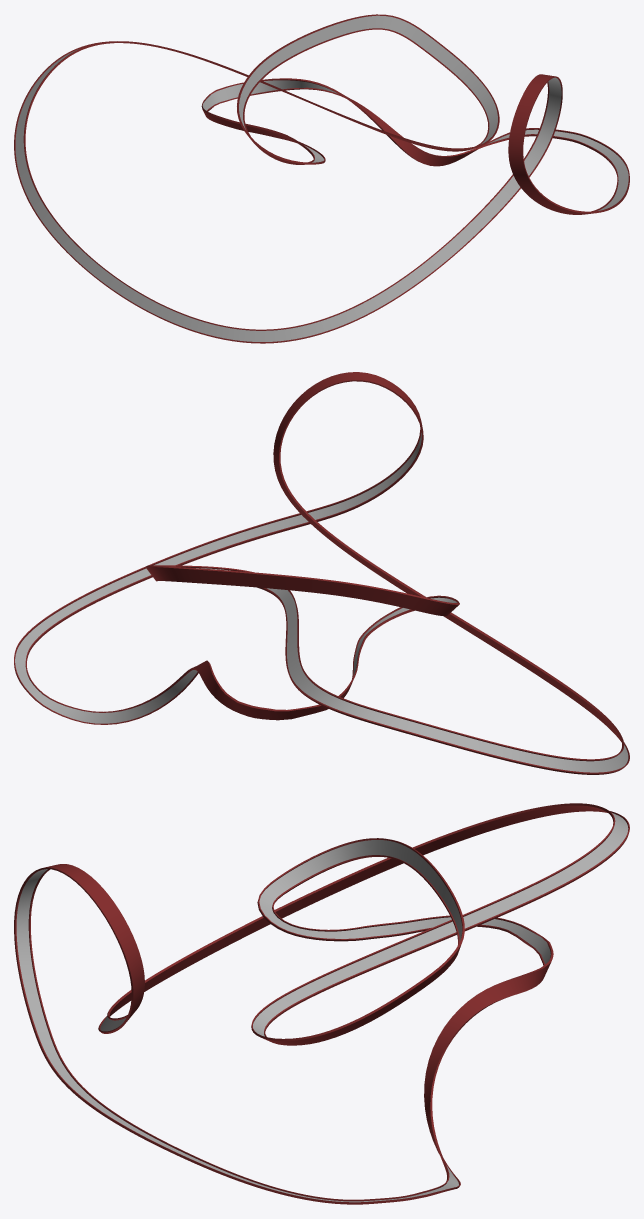
Rendered from Pista2.fbx.
The picture shows the model from 3 angles, top to bottom: view 1: azimuth 30°, elevation 25°; view 2: azimuth 150°, elevation 25°; view 3: azimuth 270°, elevation 25°; orthographic projection. The views are drawn at different scales.
Parts seen in each view (by area): view 1: extrudedSurface1; view 2: extrudedSurface1; view 3: extrudedSurface1.
Part boxes in pixels (x1,y1,x2,y2): extrudedSurface1: (14,14,629,343); extrudedSurface1: (14,372,629,774); extrudedSurface1: (14,803,629,1204).
Size of the model in its own units: 92555 by 37334 by 76206.
